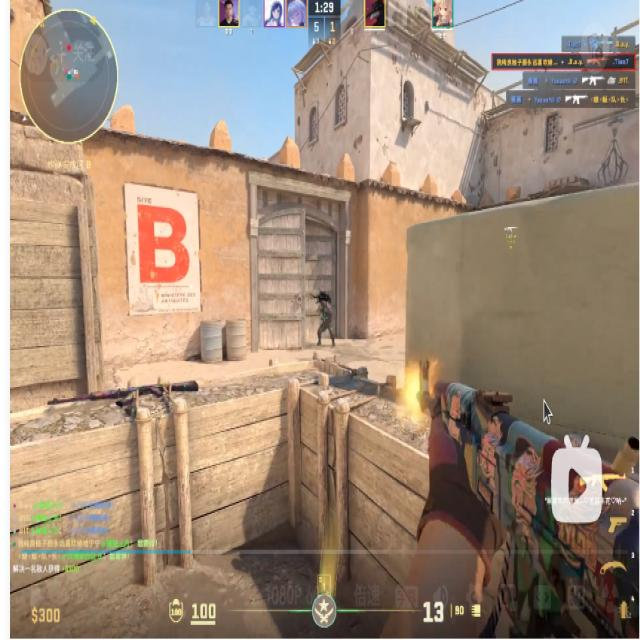person: (317, 299, 335, 347)
